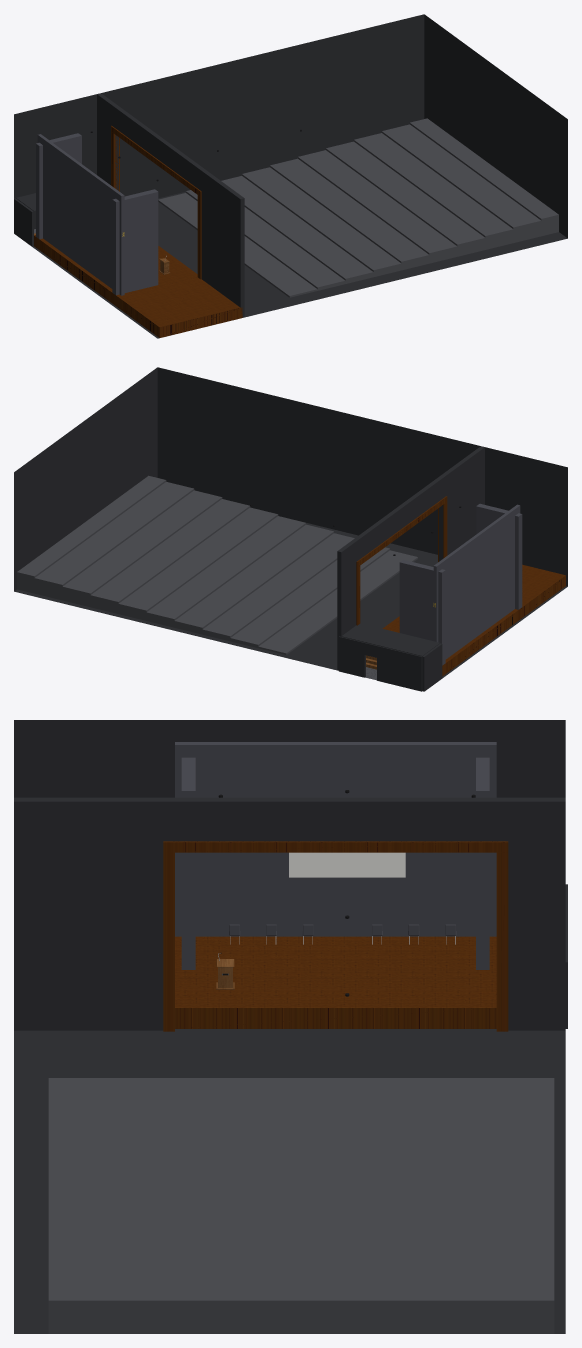
File: set11.glb
3 views of the same model, one above another, from view 1: azimuth 30°, elevation 25°; view 2: azimuth 150°, elevation 25°; view 3: azimuth 270°, elevation 25° (orthographic). The views are drawn at different scales.
Parts seen in each view (by area): view 1: Static; view 2: Static; view 3: Static.
Part boxes in pixels (left/top/right/bottom): Static: left=14, top=14, right=567, bottom=338; Static: left=14, top=367, right=567, bottom=691; Static: left=14, top=720, right=567, bottom=1333.
Bounding box in the file's own units: 39.6 × 11.02 × 24.1.
11 materials, 2 textured.
